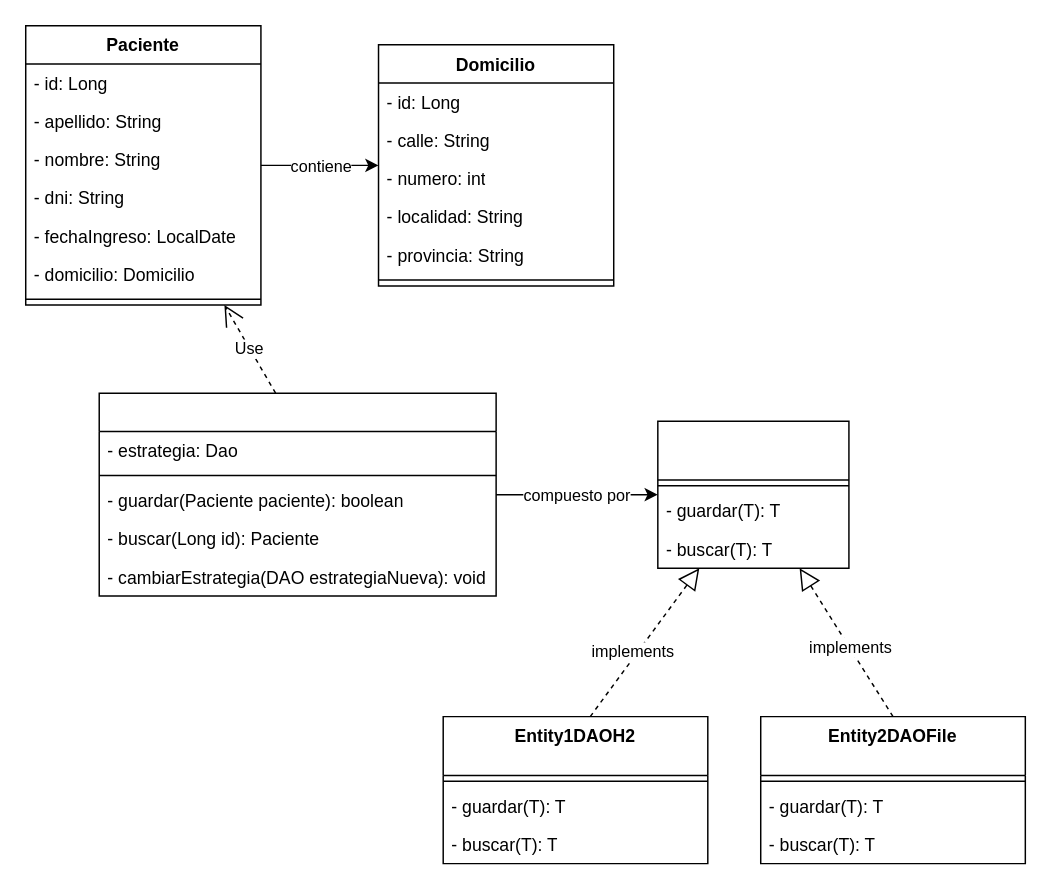
This 1051x894 diagram has some shape labels left out. Each missing label, with the box of its shape:
<<Interface>> DAO: (656, 420, 849, 568)
PacienteService: (98, 392, 496, 596)
